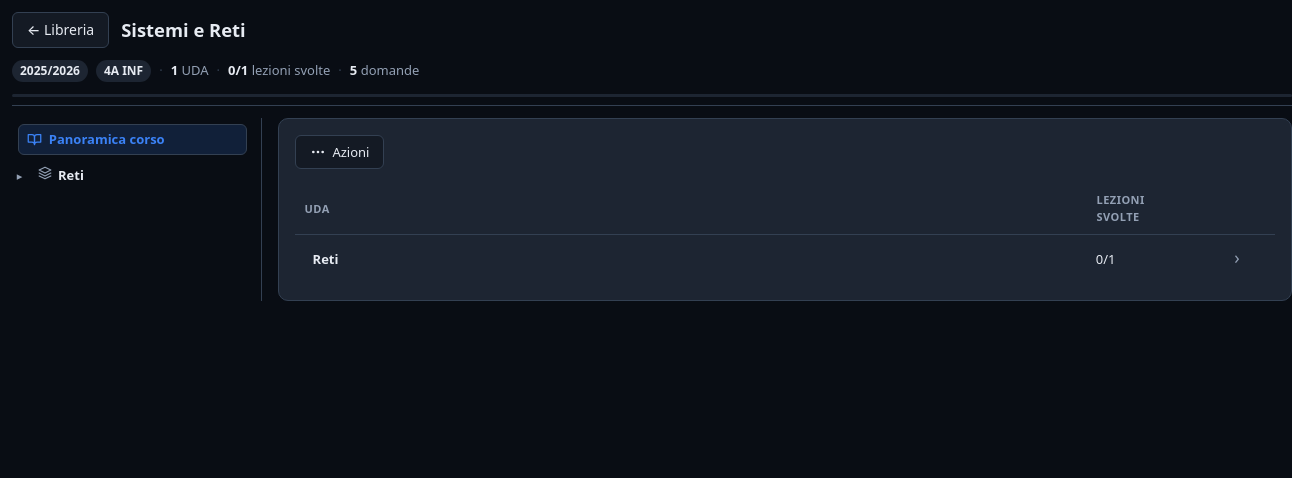
it: CourseWorkspace — selection › shows UDA metadata and its lessons table when a UDA is selected
Click the button with aria-label "uda-01-reti": (141, 175) x1=30 y1=160 x2=253 y2=190
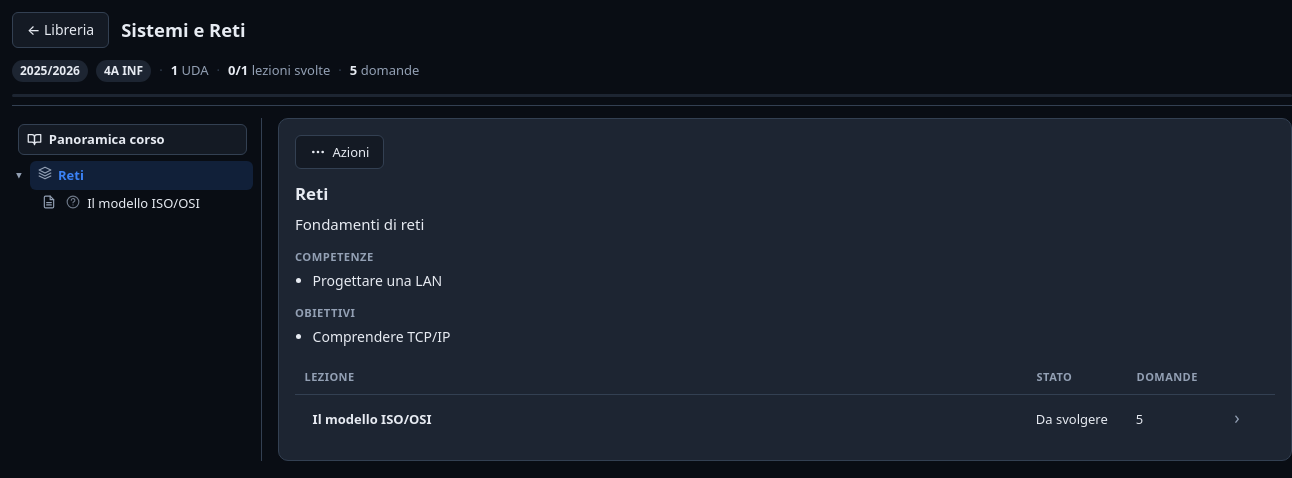
Check: the text "Fondamenti di reti" is shown, box x1=295 y1=214 x2=424 y2=234
Check: the button "Il modello ISO/OSI" next to "Da svolgere" is shown, box x1=304 y1=402 x2=1018 y2=437
Check: the text "5" is shown, box x1=1127 y1=394 x2=1199 y2=444
